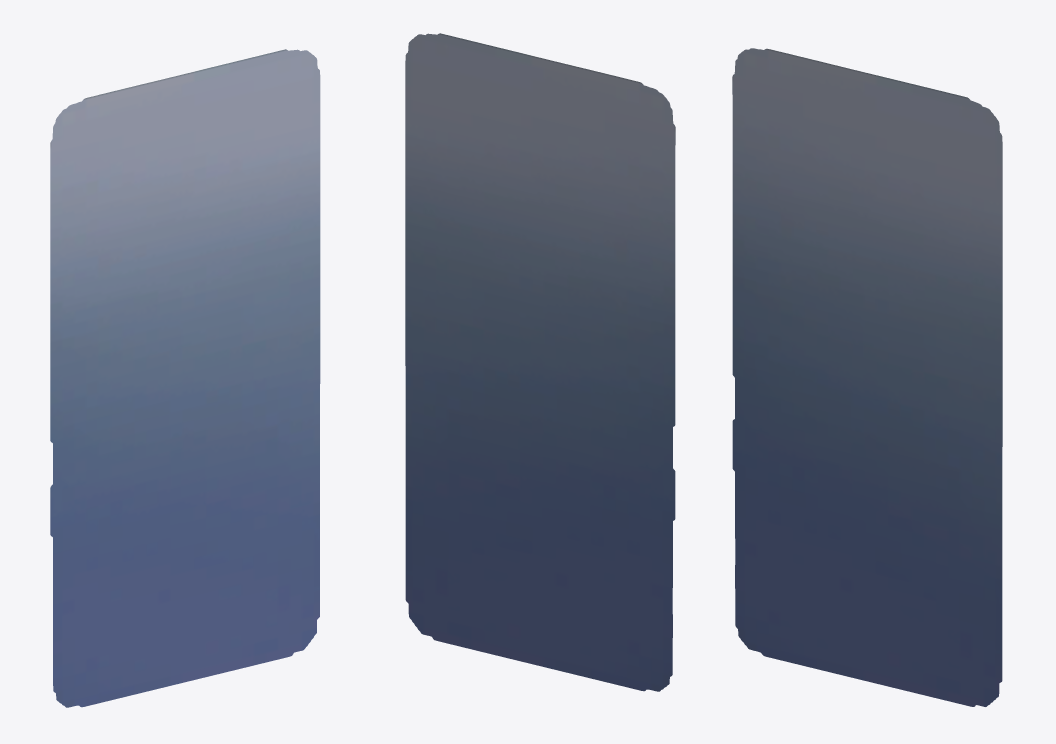
Rendered from Player_Maid_Seele_LookAtPhone_00.fbx.
3 views of the same model, side by side, from view 1: azimuth 30°, elevation 25°; view 2: azimuth 150°, elevation 25°; view 3: azimuth 330°, elevation 25° (orthographic).
Visible parts, largest first — view 1: LookAtPhone_00_Phone_Model; view 2: LookAtPhone_00_Phone_Model; view 3: LookAtPhone_00_Phone_Model.
Part boxes in pixels (x1,y1,x2,y2): LookAtPhone_00_Phone_Model: [50, 49, 320, 707]; LookAtPhone_00_Phone_Model: [405, 33, 675, 691]; LookAtPhone_00_Phone_Model: [732, 48, 1002, 706].
Bounding box in the file's own units: 0.066 × 0.1328 × 0.0081.
1 material, 1 textured.
